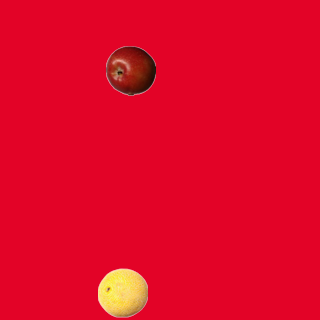Apple Braeburn: (105, 45, 155, 95)
Cantaloupe 1: (97, 267, 147, 317)
